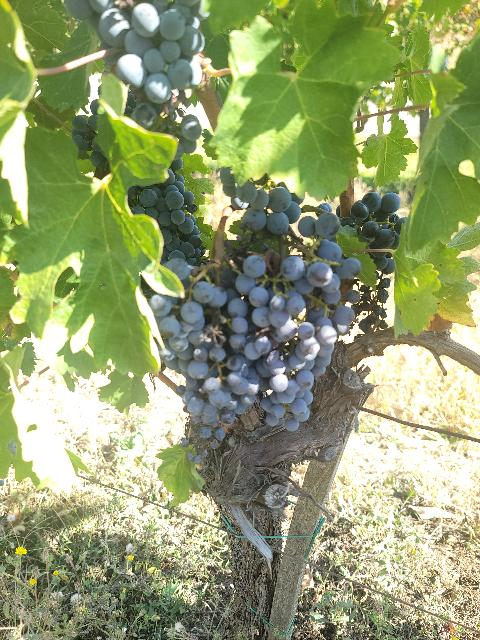grapes: (235, 255, 361, 374), (150, 258, 240, 380), (128, 169, 205, 261), (186, 355, 260, 430)
